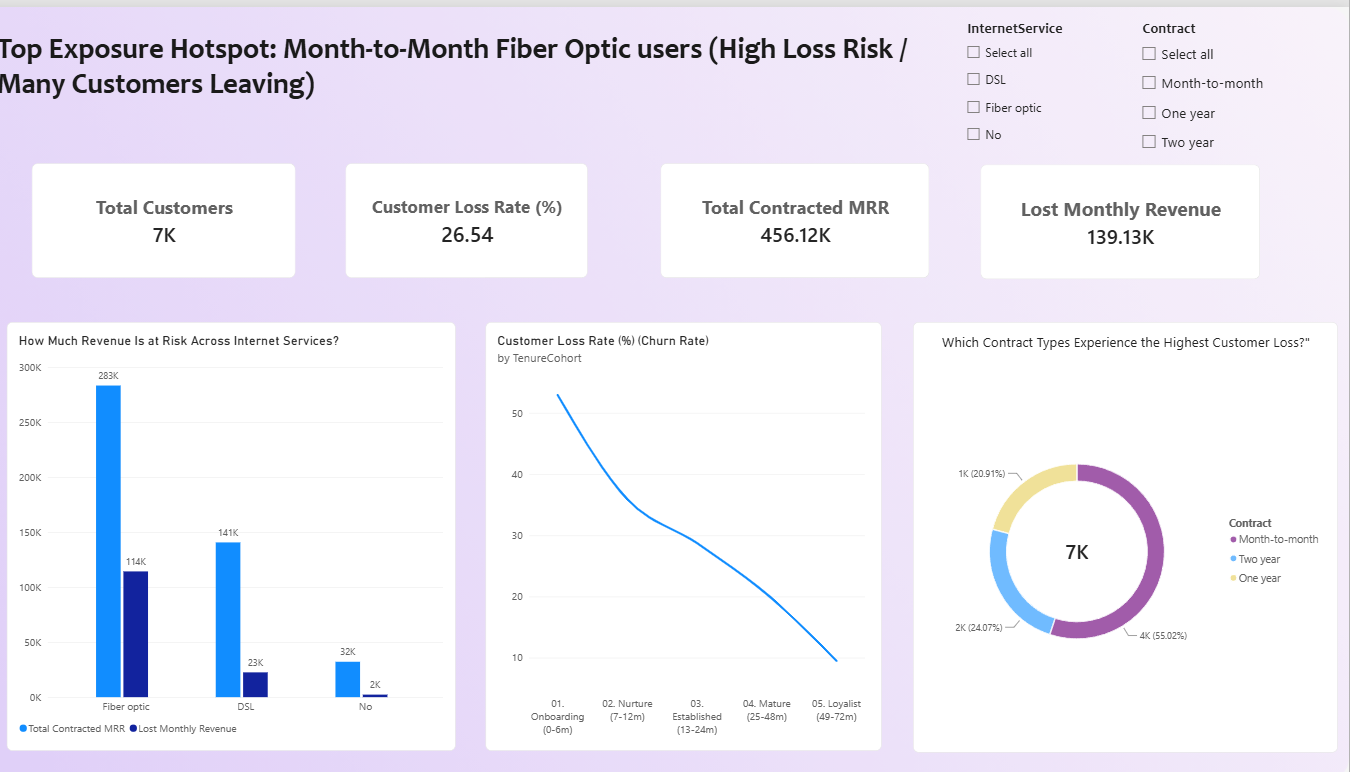

The dashboard page shown, as its layout file describes it:
{"tool":"powerbi","page":{"name":"Executive Overview & Financial Exposure","canvas":[1920,1080],"ordinal":0},"visuals":[{"type":"cardVisual","fields":{"Data":["_measures.Total Customers"]},"box":[82,218,368,160],"z":0},{"type":"cardVisual","fields":{"Data":["DimPaymentMethod.Customer Loss Rate (%) (Churn Rate)"]},"box":[519.8,218,338.4,160.5],"z":1000},{"type":"cardVisual","fields":{"Data":["DimPaymentMethod.Total Contracted MRR"]},"box":[938.4,218,375,160.5],"z":2000},{"type":"cardVisual","fields":{"Data":["DimPaymentMethod.Lost Monthly Revenue (Historical) (Churned MRC)"]},"box":[1406,236,390.7,160.5],"z":3000},{"type":"donutChart","title":"Which Contract Types Experience the Highest Customer Loss?\"","fields":{"Category":["Dimcontract.Contract"],"Y":["_measures.Total Customers"]},"box":[1327.3,439.5,593,601],"z":4000},{"type":"clusteredColumnChart","title":"How Much Revenue Is at Risk Across Internet Services?","fields":{"Category":["DimInternetService.InternetService"],"Y":["DimPaymentMethod.Total Contracted MRR","DimPaymentMethod.Lost Monthly Revenue (Historical) (Churned MRC)"]},"box":[82,439.5,626.2,598.3],"z":5000},{"type":"lineChart","fields":{"Category":["DimTenureCohort.TenureCohort"],"Y":["DimPaymentMethod.Customer Loss Rate (%) (Churn Rate)"]},"box":[743,439.5,552.9,598.3],"z":6000},{"type":"textbox","title":"Top Exposure Hotspot: Month-to-Month Fiber Optic users (High Loss Risk / Many Customers Leaving)","box":[34,34,1278.5,151.7],"z":7000},{"type":"slicer","fields":{"Values":["Dimcontract.Contract"]},"box":[1624,18,286,202],"z":7001},{"type":"slicer","fields":{"Values":["DimInternetService.InternetService"]},"box":[1380,18,222,182],"z":7002}]}

Visuals, with their boxes in screenshot pixels (x1, y1, x2, y2), scaled from the page's 1920x1080 canvas onto the 1351x772 screenshot:
cardVisual - _measures.Total Customers: rect(58, 156, 317, 270)
cardVisual - DimPaymentMethod.Customer Loss Rate (%) (Churn Rate): rect(366, 156, 604, 271)
cardVisual - DimPaymentMethod.Total Contracted MRR: rect(660, 156, 924, 271)
cardVisual - DimPaymentMethod.Lost Monthly Revenue (Historical) (Churned MRC): rect(989, 169, 1264, 283)
"Which Contract Types Experience the Highest Customer Loss?"" donutChart: rect(934, 314, 1350, 744)
"How Much Revenue Is at Risk Across Internet Services?" clusteredColumnChart: rect(58, 314, 498, 742)
lineChart - DimTenureCohort.TenureCohort x DimPaymentMethod.Customer Loss Rate (%) (Churn Rate): rect(523, 314, 912, 742)
"Top Exposure Hotspot: Month-to-Month Fiber Optic users (High Loss Risk / Many Customers Leaving)" textbox: rect(24, 24, 924, 133)
slicer - Dimcontract.Contract: rect(1143, 13, 1344, 157)
slicer - DimInternetService.InternetService: rect(971, 13, 1127, 143)
